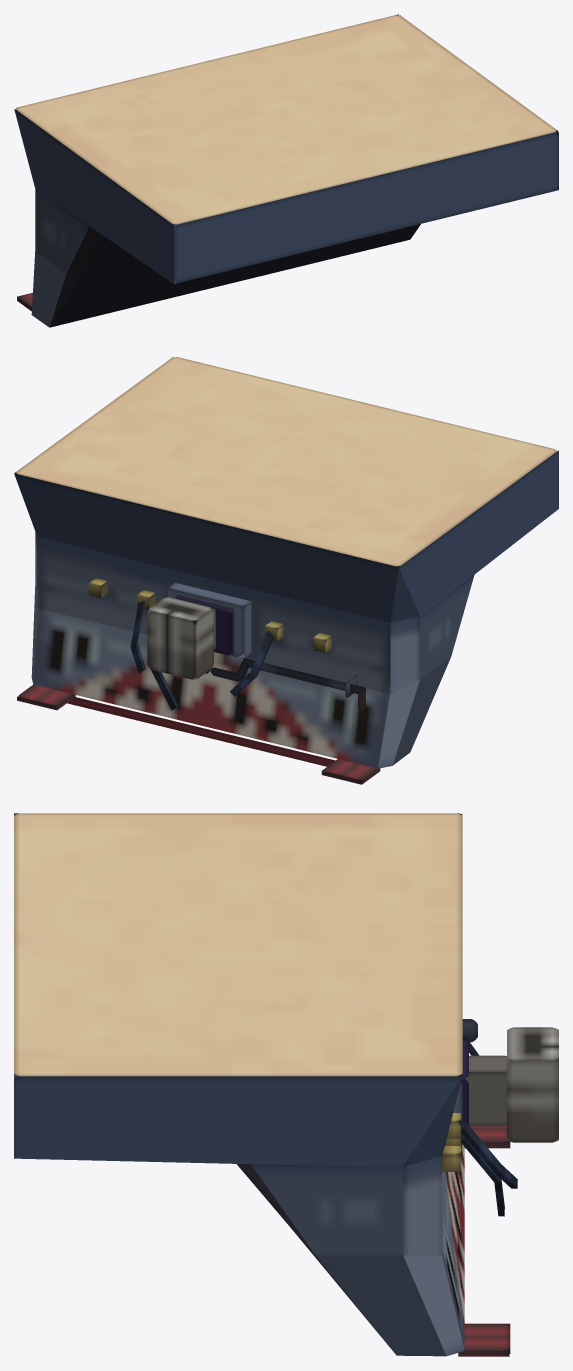
Rendered from df11_cowcatcher.obj.
The picture shows the model from 3 angles, top to bottom: view 1: azimuth 30°, elevation 25°; view 2: azimuth 150°, elevation 25°; view 3: azimuth 270°, elevation 25°; orthographic projection. The views are drawn at different scales.
Visible parts, largest first — view 1: cube_selection; view 2: cube_selection; view 3: cube_selection.
Boxes of the visible parts, bbox=[...] form: cube_selection: bbox=[14, 14, 558, 327]; cube_selection: bbox=[14, 357, 558, 784]; cube_selection: bbox=[14, 813, 558, 1356].
Size of the model in its own units: 3 by 1.61 by 2.63.
